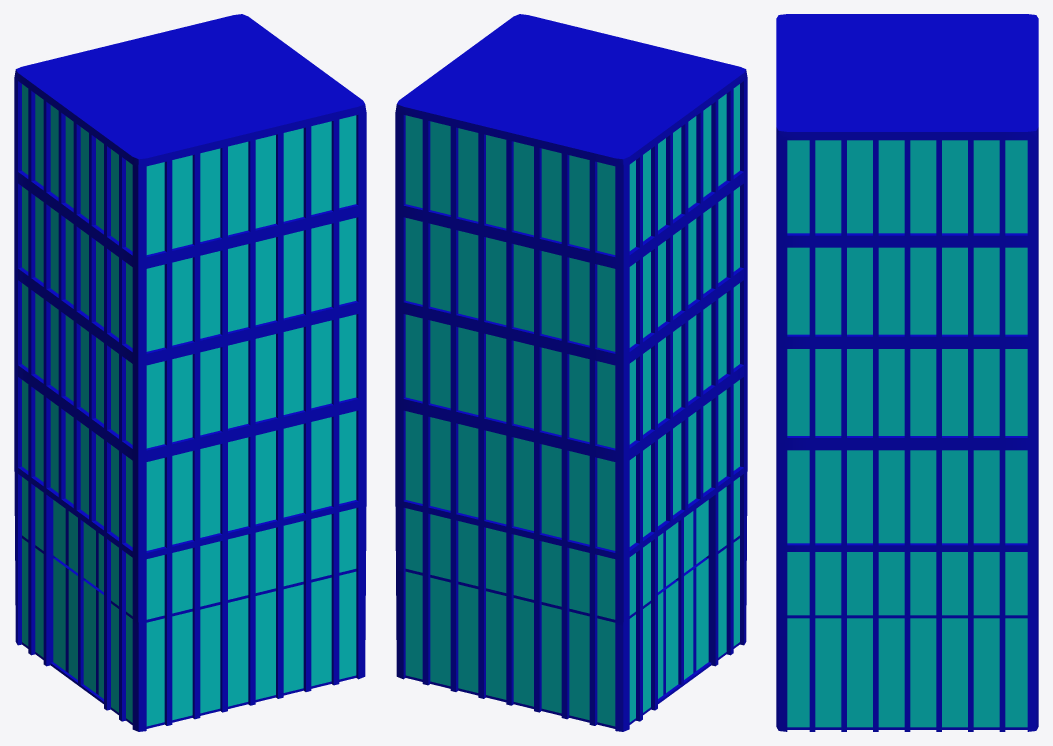
Rendered from Building_13.fbx.
3 renders of one model, left to right at view 1: azimuth 30°, elevation 25°; view 2: azimuth 150°, elevation 25°; view 3: azimuth 270°, elevation 25°, orthographic. The views are drawn at different scales.
Visible parts, largest first — view 1: Building_13; view 2: Building_13; view 3: Building_13.
Boxes of the visible parts, <box> form: Building_13: <box>14,14,366,731</box>; Building_13: <box>395,14,747,731</box>; Building_13: <box>776,14,1038,731</box>.
Size of the model in its own units: 87.16 by 207 by 81.89.
